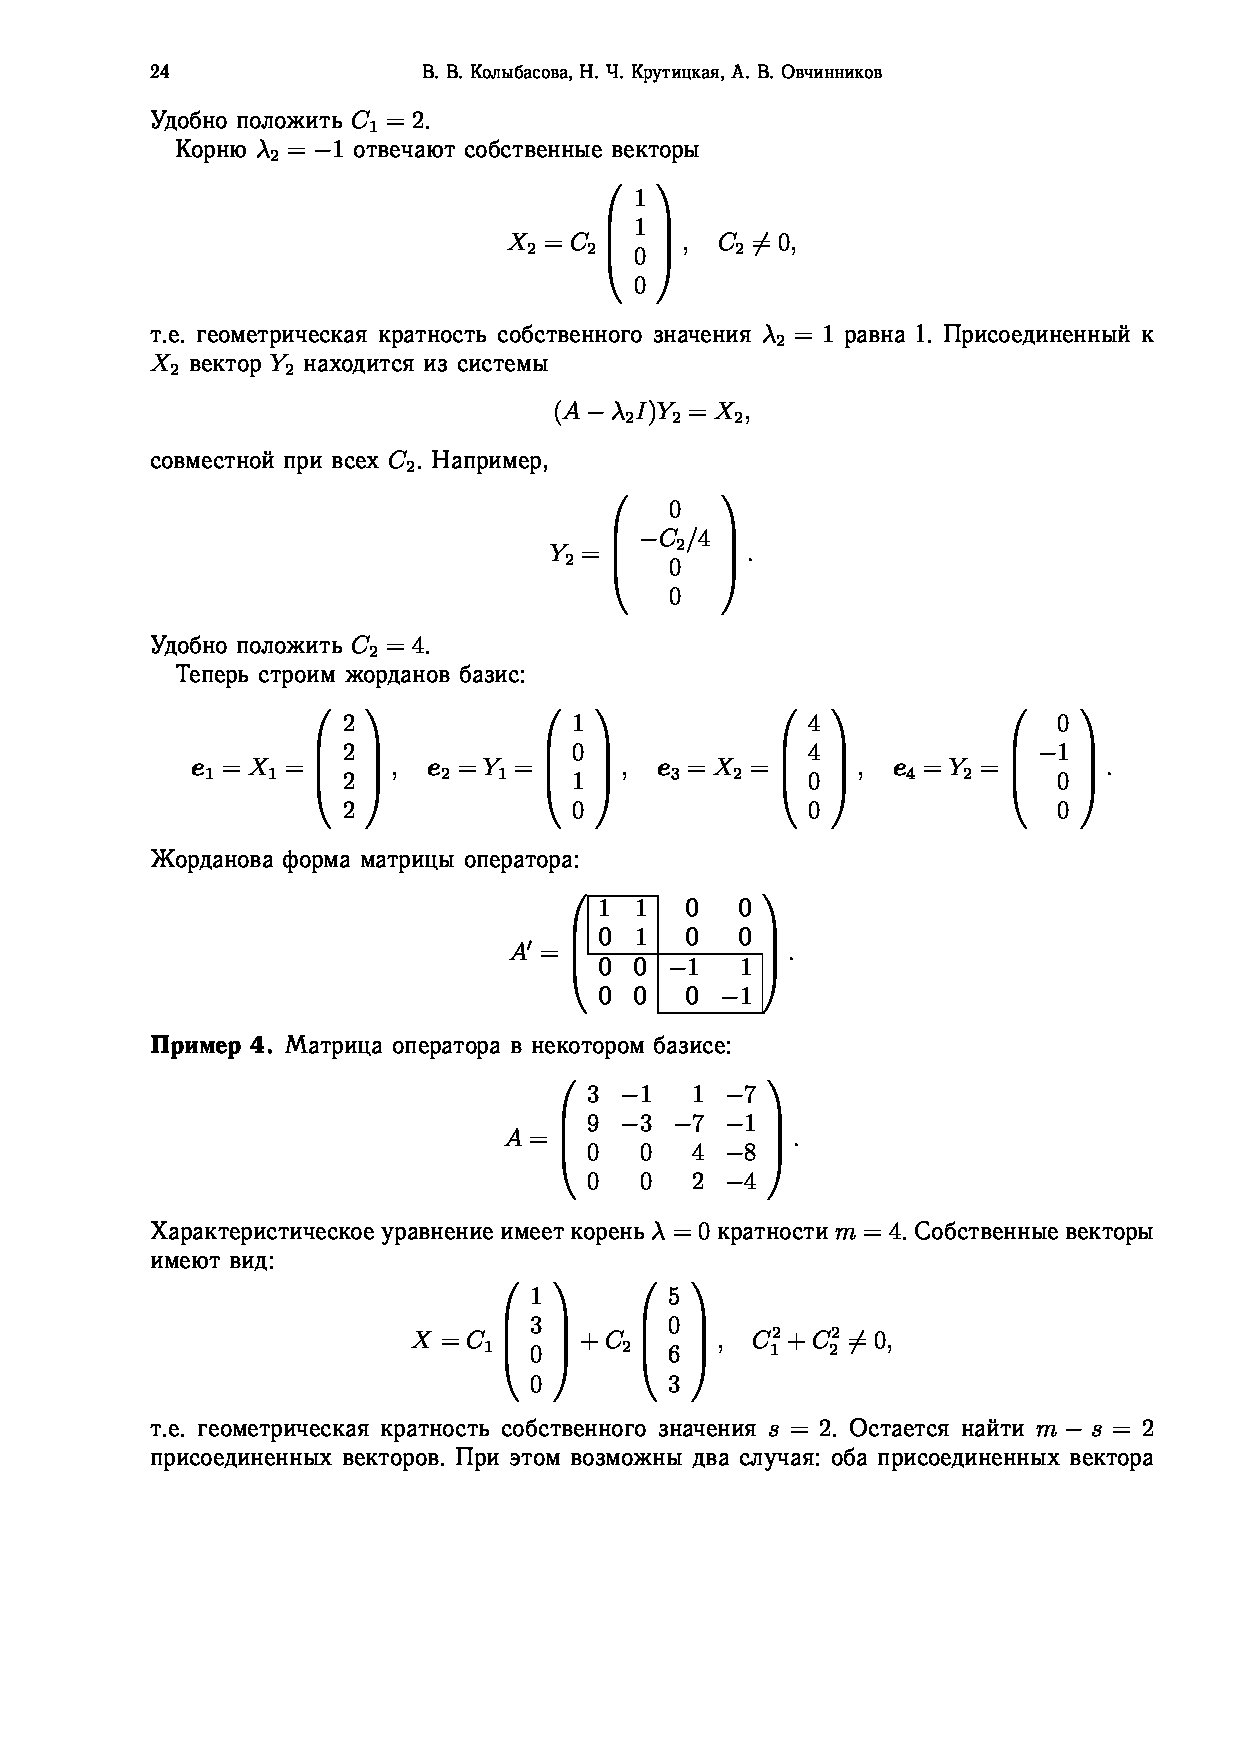pMatrix: (560, 1080, 788, 1206), (570, 892, 780, 1027), (613, 493, 737, 620), (1011, 709, 1099, 833), (315, 707, 386, 835), (542, 709, 611, 836), (640, 1286, 711, 1406), (505, 1276, 570, 1404), (607, 183, 672, 309), (782, 707, 848, 831)
